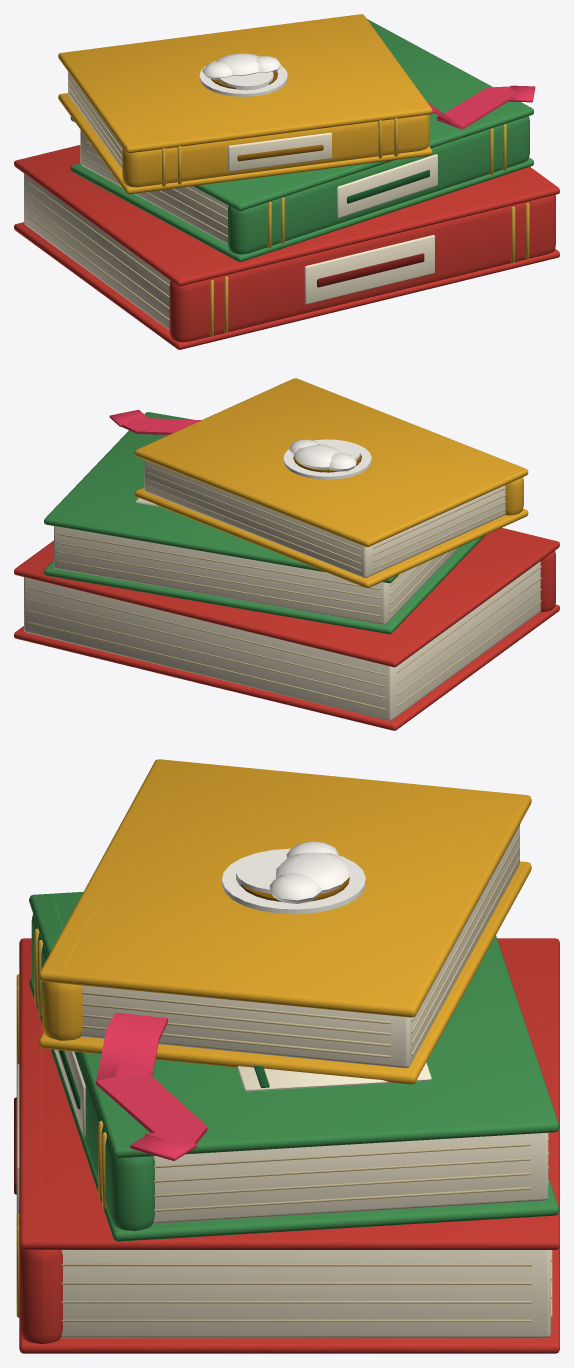
File: cookbook_stack.glb
3 renders of one model, top to bottom at view 1: azimuth 30°, elevation 25°; view 2: azimuth 150°, elevation 25°; view 3: azimuth 270°, elevation 25°, orthographic. The views are drawn at different scales.
Visible parts, largest first — view 1: CookbookStack; view 2: CookbookStack; view 3: CookbookStack.
Boxes of the visible parts, bbox=[...] form: CookbookStack: bbox=[14, 14, 559, 349]; CookbookStack: bbox=[14, 378, 559, 730]; CookbookStack: bbox=[14, 759, 559, 1353].
Size of the model in its own units: 8.65 by 3.8 by 6.06.
